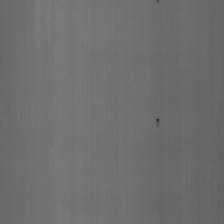inclusion: (155, 116, 160, 129), (155, 0, 160, 3)
